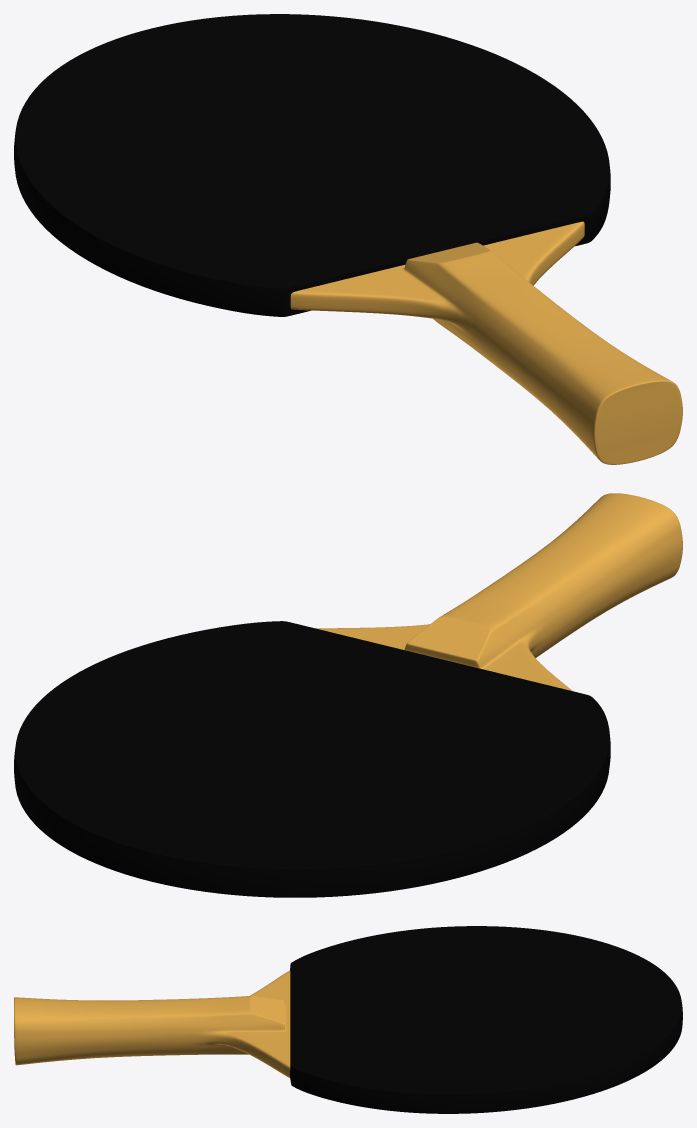
File: table_tennis_paddle.fbx
3 views of the same model, one above another, from view 1: azimuth 30°, elevation 25°; view 2: azimuth 150°, elevation 25°; view 3: azimuth 270°, elevation 25° (orthographic). The views are drawn at different scales.
Visible parts, largest first — view 1: Circle.005, Circle.004; view 2: Circle.005, Circle.004; view 3: Circle.005, Circle.004.
Boxes of the visible parts, box(x1,y1,x2,y2) form: Circle.005: box(14, 14, 610, 316); Circle.004: box(290, 221, 682, 464); Circle.005: box(14, 621, 610, 897); Circle.004: box(316, 493, 682, 691); Circle.005: box(290, 926, 682, 1113); Circle.004: box(14, 970, 290, 1077).
Bounding box in the file's own units: 210 × 31.69 × 353.
